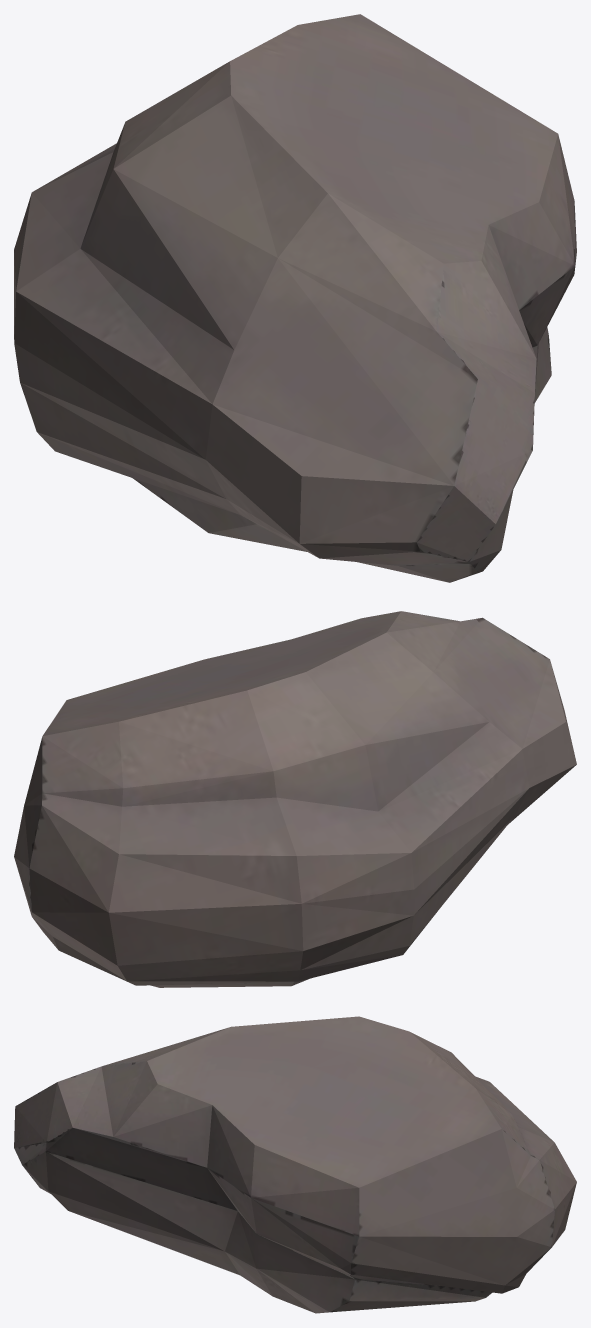
3 renders of one model, top to bottom at view 1: azimuth 30°, elevation 25°; view 2: azimuth 150°, elevation 25°; view 3: azimuth 270°, elevation 25°, orthographic. The views are drawn at different scales.
Parts seen in each view (by area): view 1: body0_model0_lod0_mesh0; view 2: body0_model0_lod0_mesh0; view 3: body0_model0_lod0_mesh0.
Boxes of the visible parts, x1=… form: body0_model0_lod0_mesh0: x1=14, y1=14, x2=576, y2=582; body0_model0_lod0_mesh0: x1=14, y1=611, x2=576, y2=987; body0_model0_lod0_mesh0: x1=14, y1=1016, x2=576, y2=1313.
Bounding box in the file's own units: 83.14 × 57.52 × 125.
1 material, 1 textured.
